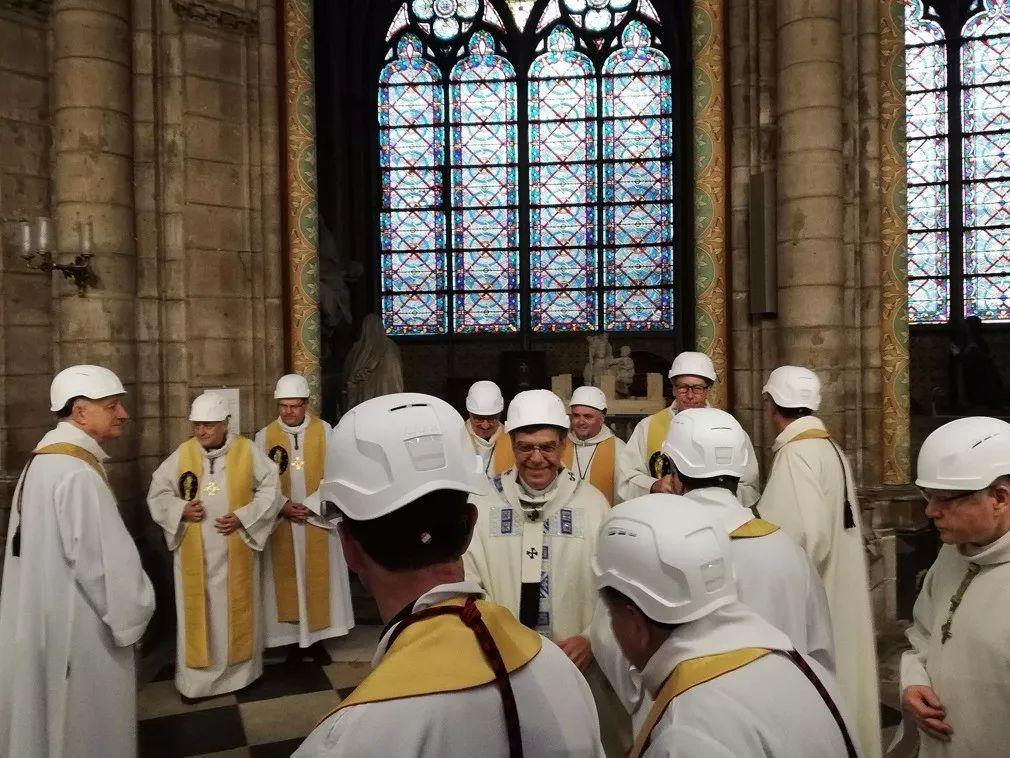helmet: (319, 395, 491, 523), (597, 492, 739, 623), (911, 418, 1010, 491), (664, 410, 748, 479), (51, 368, 129, 415), (503, 388, 571, 441), (762, 364, 824, 415), (670, 349, 721, 382), (468, 379, 503, 421), (191, 395, 234, 427), (273, 373, 315, 405), (572, 382, 613, 408)
